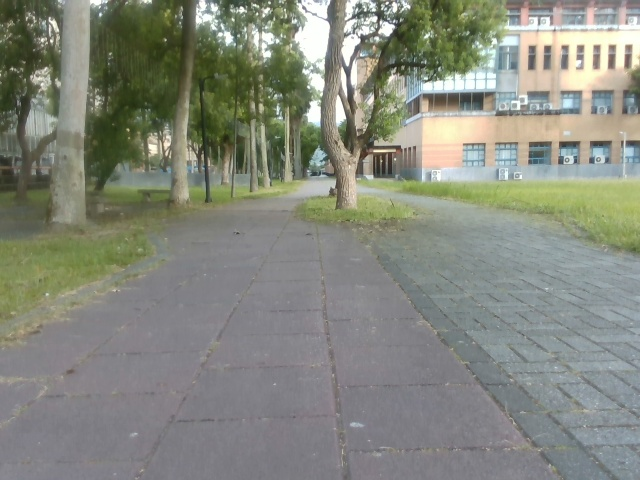grass: (0, 179, 639, 333), (85, 0, 508, 209), (0, 0, 62, 197)
road: (0, 179, 639, 479)
